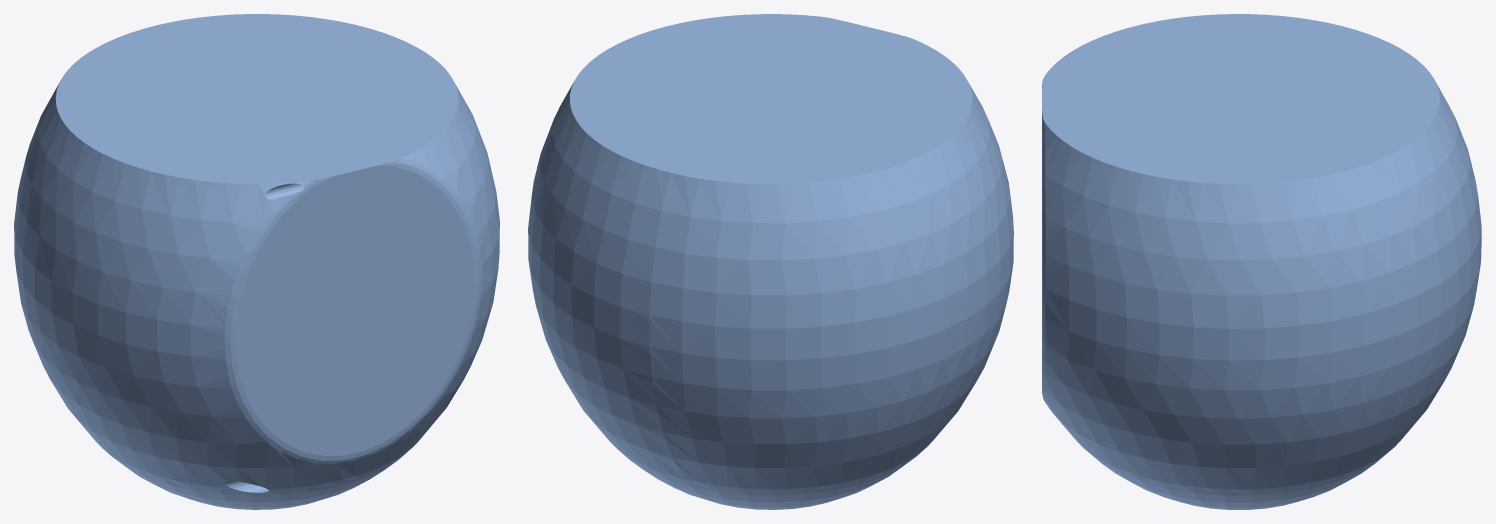
Rendered from left_arm6.dae.
3 views of the same model, side by side, from view 1: azimuth 30°, elevation 25°; view 2: azimuth 150°, elevation 25°; view 3: azimuth 270°, elevation 25° (orthographic).
Parts seen in each view (by area): view 1: left-lwr-3-link67_iv_MatrixTransform__Geometry_0; view 2: left-lwr-3-link67_iv_MatrixTransform__Geometry_0; view 3: left-lwr-3-link67_iv_MatrixTransform__Geometry_0.
Part boxes in pixels (x1,y1,x2,y2): left-lwr-3-link67_iv_MatrixTransform__Geometry_0: (14, 14, 499, 509); left-lwr-3-link67_iv_MatrixTransform__Geometry_0: (528, 14, 1013, 509); left-lwr-3-link67_iv_MatrixTransform__Geometry_0: (1042, 14, 1481, 509).
Size of the model in its own units: 0.1406 by 0.1272 by 0.1245.
